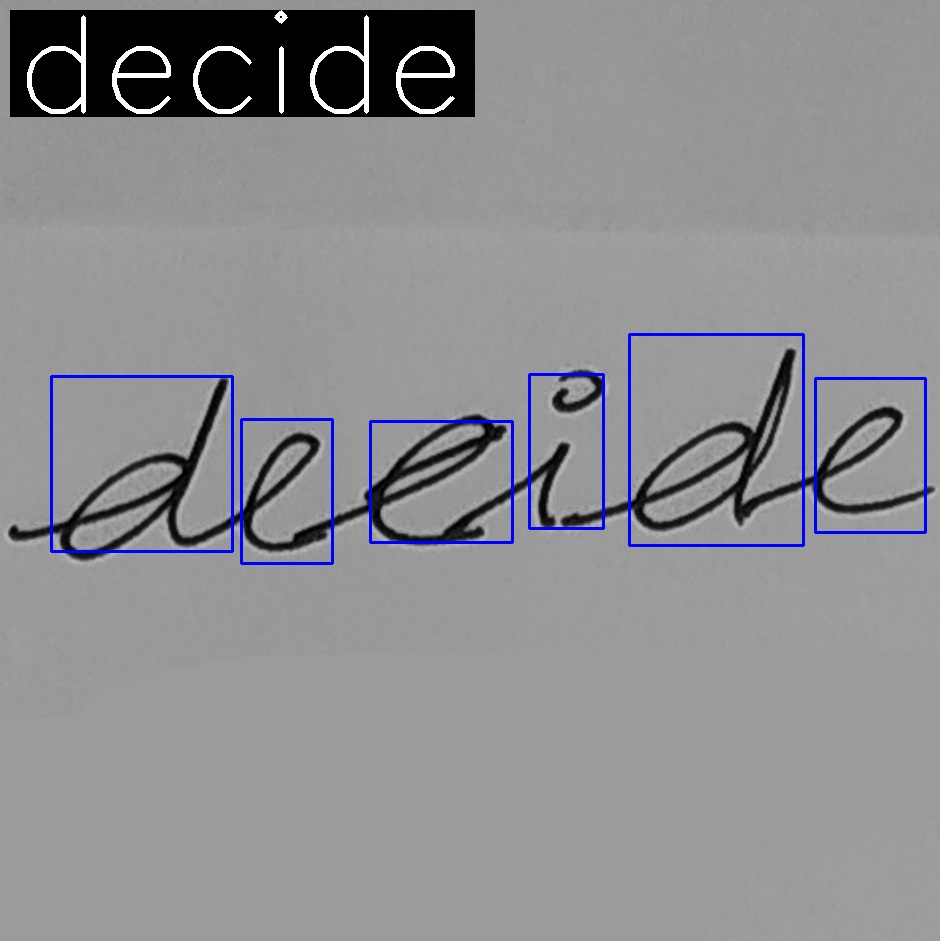c: (363, 408, 508, 548)
d: (56, 373, 229, 563), (627, 345, 797, 535)
e: (809, 404, 915, 518), (239, 429, 331, 555)
i: (527, 366, 607, 533)
